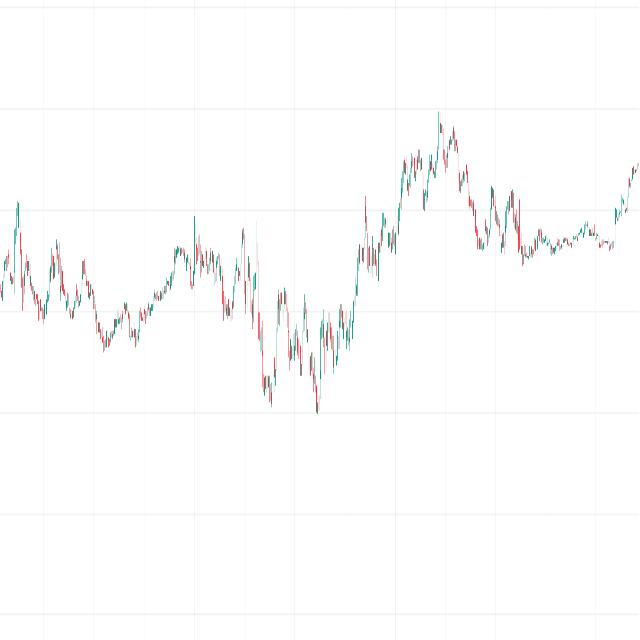Rising-Wedge: (248, 100, 464, 515)
